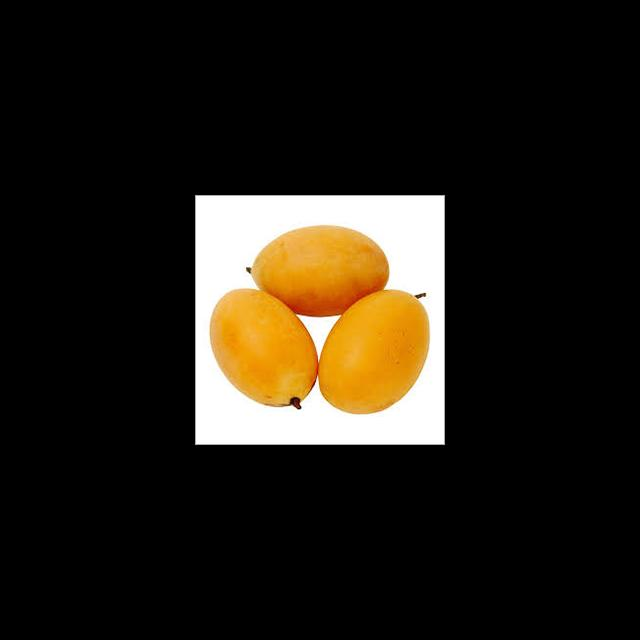Mango: (317, 288, 429, 414), (246, 224, 389, 317), (209, 287, 318, 409)
